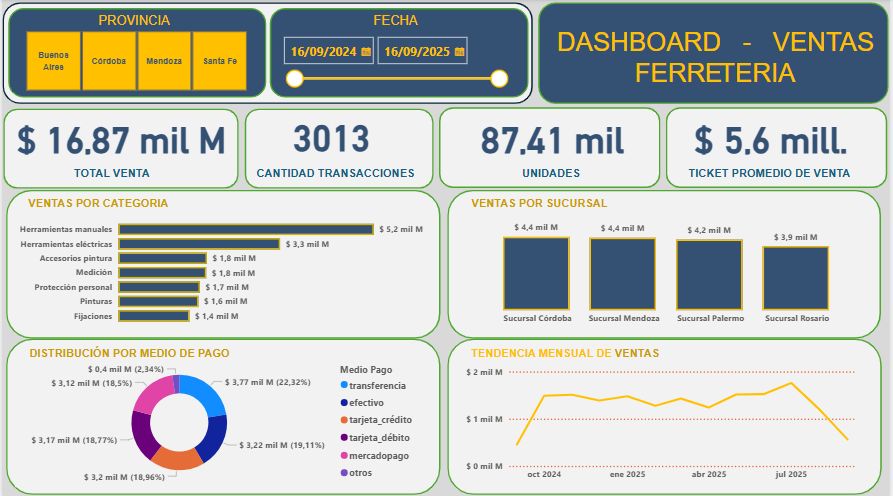

The page's visual inventory and layout, read from the dashboard file:
{"tool":"powerbi","page":{"name":"Página 1","canvas":[1280,720],"ordinal":0},"visuals":[{"type":"card","fields":{"Values":["Sum(retail_ferreteria.Total Venta)"]},"box":[14.4,164.2,315.4,64.8],"z":0},{"type":"card","fields":{"Values":["CountNonNull(retail_ferreteria.Id Venta)"]},"box":[371.5,159.8,205.9,69.1],"z":1000},{"type":"card","fields":{"Values":["Sum(retail_ferreteria.Cantidad)"]},"box":[643.7,164.2,298.1,64.8],"z":2000},{"type":"card","fields":{"Values":["Avg(retail_ferreteria.Total Venta)"]},"box":[963.4,164.2,286.6,64.8],"z":3000},{"type":"clusteredBarChart","title":"Ventas por Categoría","fields":{"Category":["retail_ferreteria.Categoria"],"Y":["Sum(retail_ferreteria.Total Venta)"]},"box":[18.7,302.4,596.2,175.7],"z":4000},{"type":"columnChart","title":"Ventas por Sucursal","fields":{"Category":["retail_ferreteria.Sucursal"],"Y":["Sum(retail_ferreteria.Total Venta)"]},"box":[666.7,302.4,583.2,175.7],"z":5000},{"type":"donutChart","title":"Distribución por Medio de Pago","fields":{"Category":["retail_ferreteria.Medio Pago"],"Y":["Sum(retail_ferreteria.Total Venta)"]},"box":[18.7,517,586.1,185.8],"z":6000},{"type":"lineChart","title":"Tendencia Mensual de Ventas","fields":{"Category":["retail_ferreteria.Fecha.Variación.Jerarquía de fechas.Año","retail_ferreteria.Fecha.Variación.Jerarquía de fechas.Mes","retail_ferreteria.Fecha.Variación.Jerarquía de fechas.Día"],"Y":["Sum(retail_ferreteria.Total Venta)"]},"box":[662.4,522.7,583.2,180],"z":7000},{"type":"slicer","fields":{"Values":["retail_ferreteria.Provincia"]},"box":[14.4,44.6,357.1,89.3],"z":8000},{"type":"slicer","fields":{"Values":["retail_ferreteria.Fecha"]},"box":[393.1,44.6,344.2,89.3],"z":9000}]}

Visuals, with their boxes in screenshot pixels (x1, y1, x2, y2), scaled from the page's 1280x720 canvas onto the 893x496 screenshot:
card - Sum(retail_ferreteria.Total Venta): (x1=10, y1=113, x2=230, y2=158)
card - CountNonNull(retail_ferreteria.Id Venta): (x1=259, y1=110, x2=403, y2=158)
card - Sum(retail_ferreteria.Cantidad): (x1=449, y1=113, x2=657, y2=158)
card - Avg(retail_ferreteria.Total Venta): (x1=672, y1=113, x2=872, y2=158)
"Ventas por Categoría" clusteredBarChart: (x1=13, y1=208, x2=429, y2=329)
"Ventas por Sucursal" columnChart: (x1=465, y1=208, x2=872, y2=329)
"Distribución por Medio de Pago" donutChart: (x1=13, y1=356, x2=422, y2=484)
"Tendencia Mensual de Ventas" lineChart: (x1=462, y1=360, x2=869, y2=484)
slicer - retail_ferreteria.Provincia: (x1=10, y1=31, x2=259, y2=92)
slicer - retail_ferreteria.Fecha: (x1=274, y1=31, x2=514, y2=92)
